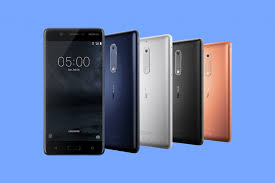vsmart: (40, 24, 106, 157), (104, 27, 140, 153), (139, 33, 172, 149), (170, 35, 202, 145), (204, 39, 234, 142)
